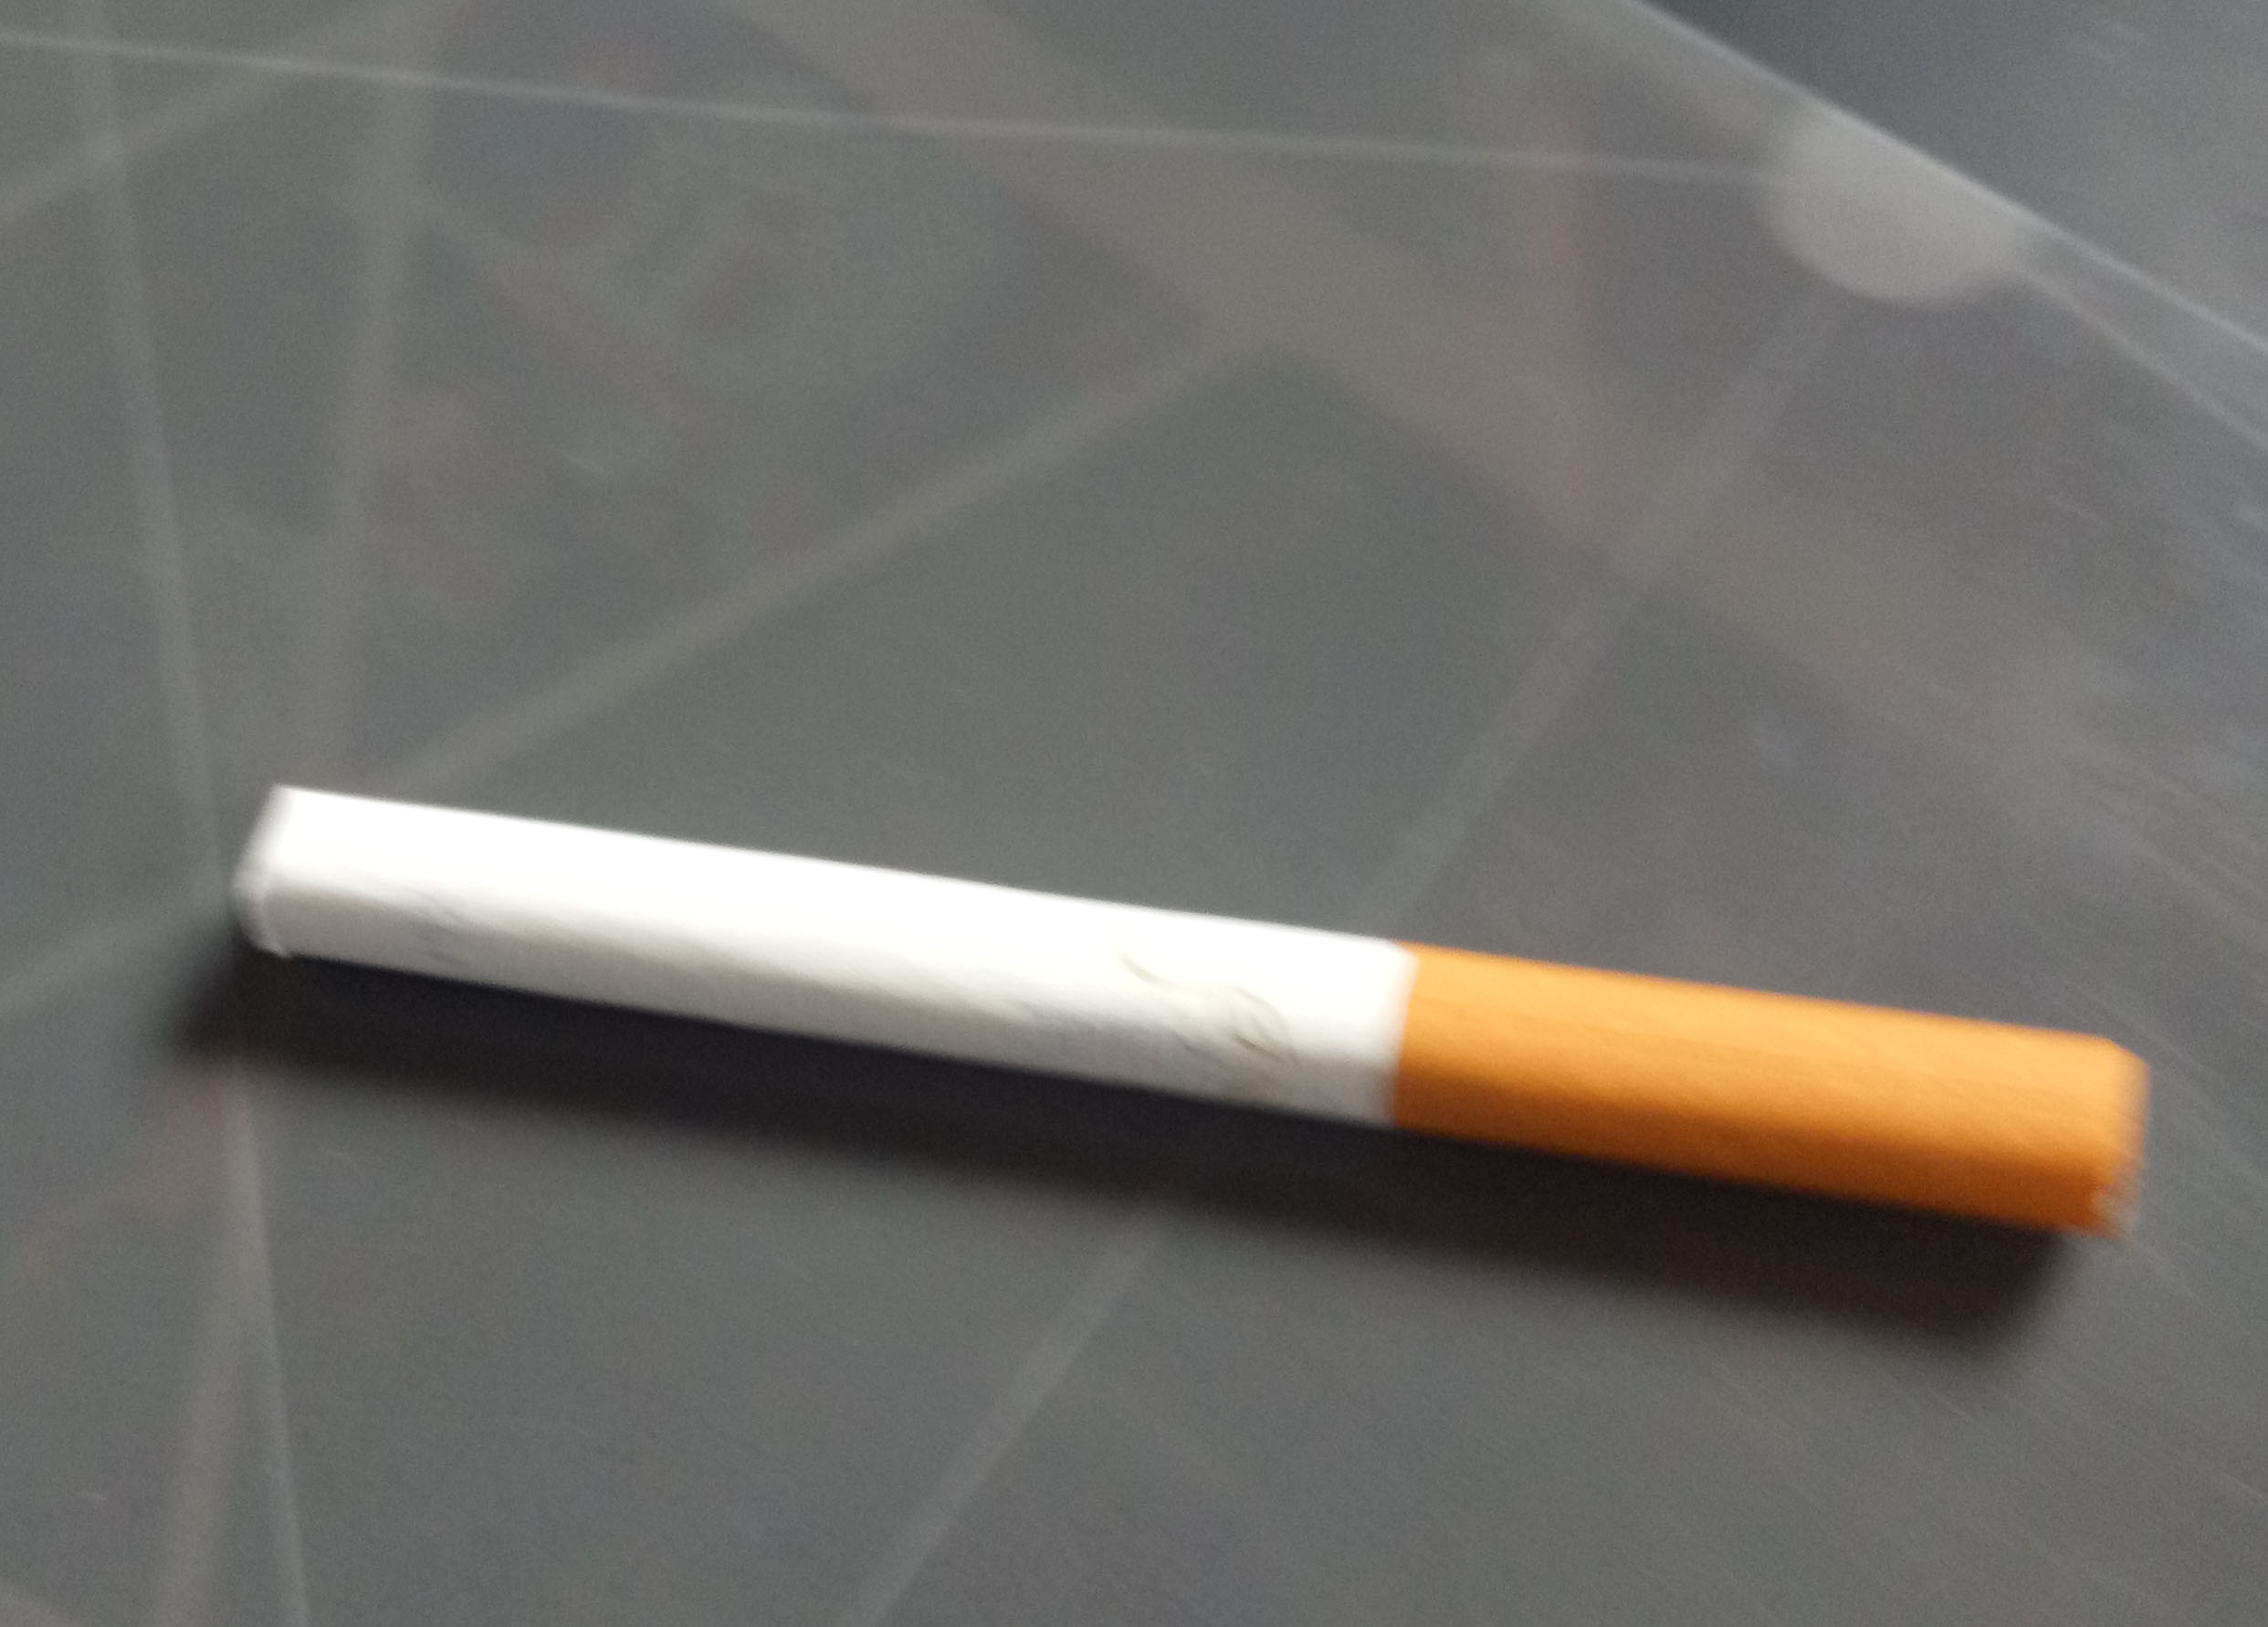cigarette: (217, 757, 2154, 1275)
